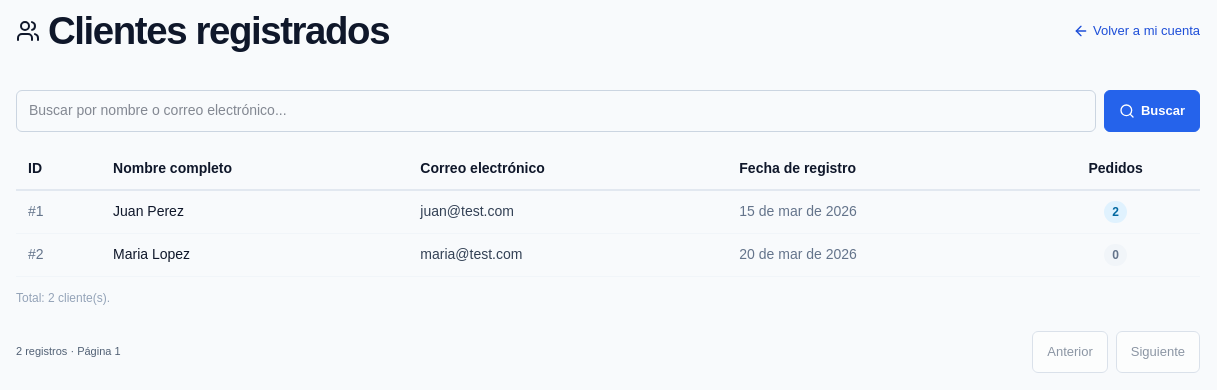
CustomerList (CO-62 HU-19) › filters customer results by search query
Check: the text "Juan Perez" is shown, box [101,190,408,233]
Type "Juan" into the search field named "Buscar cliente". click: (556, 111)
box: [16,90,1096,132]
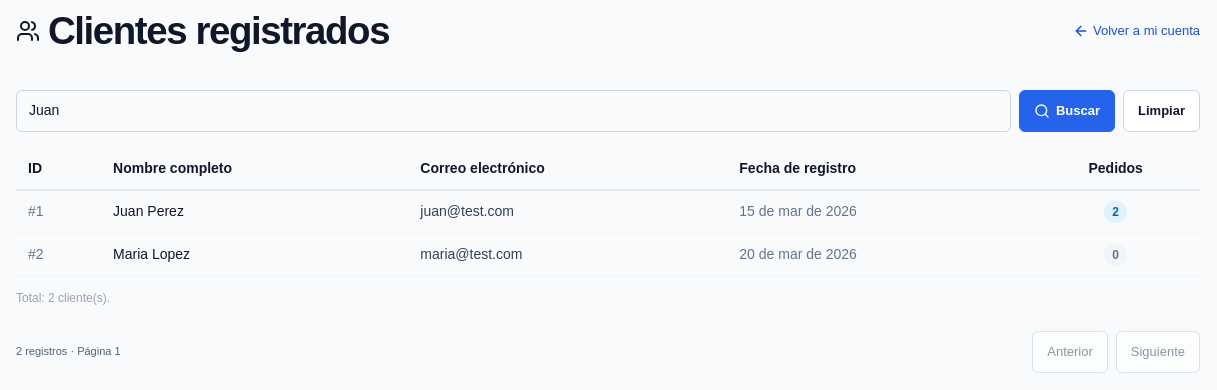
Click the button "Buscar". click: (1067, 111)
box: [1019,90,1115,132]
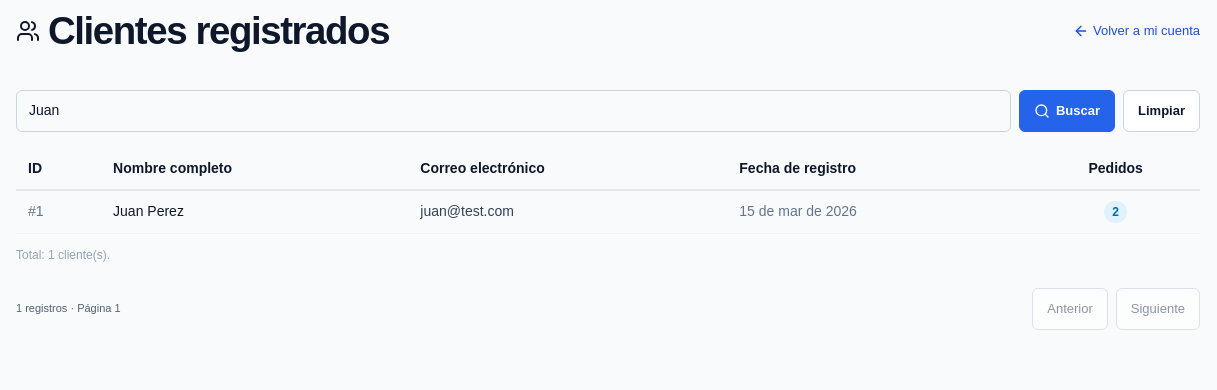
Check: the text "Juan Perez" is shown, box [101,190,408,233]
Check: the text "Maria Lopez" is gone
